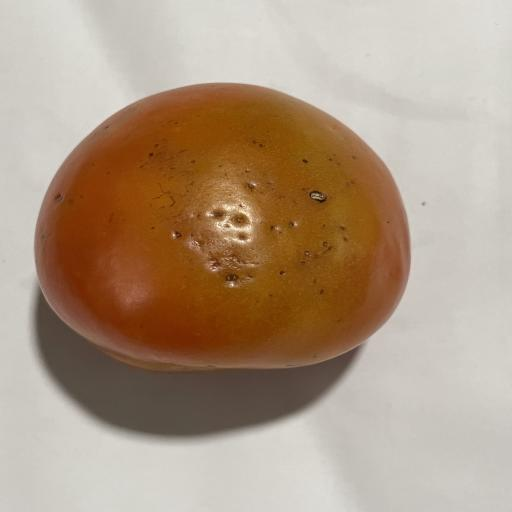overipe: (35, 83, 410, 371)
